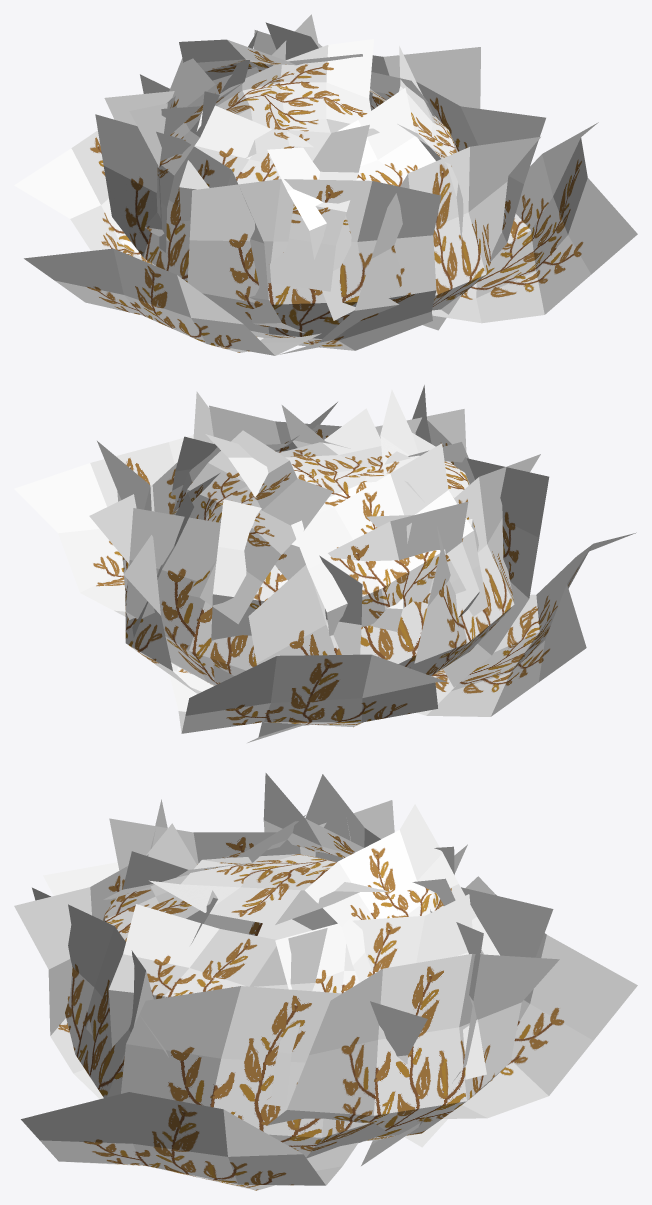
Rendered from Bush_Tall_test3_doubledfaces.fbx.
3 views of the same model, one above another, from view 1: azimuth 30°, elevation 25°; view 2: azimuth 150°, elevation 25°; view 3: azimuth 270°, elevation 25° (orthographic). The views are drawn at different scales.
Parts seen in each view (by area): view 1: Plane.006, Plane.016, Plane.005, Plane.010, Plane, Plane.015, Plane.014, Plane.007, Plane.017, Plane.004, Plane.003, Plane.011 (+6 smaller); view 2: Plane.017, Plane.011, Plane.001, Plane.002, Plane.013, Plane.015, Plane.016, Plane, Plane.006, Plane.014, Plane.012, Plane.003 (+6 smaller); view 3: Plane.003, Plane.004, Plane.016, Plane.008, Plane.017, Plane.013, Plane.005, Plane.009, Plane.014, Plane.001, Plane.006, Plane (+5 smaller).
Part boxes in pixels (<box>): Plane.006: <box>187,179,441,350</box>; Plane.016: <box>432,122,637,323</box>; Plane.005: <box>278,136,540,354</box>; Plane.010: <box>179,105,369,291</box>; Plane: <box>95,114,319,341</box>; Plane.015: <box>24,248,321,355</box>; Plane.014: <box>215,39,379,158</box>; Plane.007: <box>267,87,435,320</box>; Plane.017: <box>14,130,150,263</box>; Plane.004: <box>416,82,545,330</box>; Plane.003: <box>254,30,480,108</box>; Plane.011: <box>156,58,219,252</box>; Plane.017: <box>169,654,446,733</box>; Plane.011: <box>291,443,487,635</box>; Plane.001: <box>247,501,479,742</box>; Plane.002: <box>125,508,362,725</box>; Plane.013: <box>185,430,333,624</box>; Plane.015: <box>416,532,636,716</box>; Plane.016: <box>14,435,193,616</box>; Plane: <box>410,454,540,675</box>; Plane.006: <box>412,385,549,687</box>; Plane.014: <box>205,408,412,546</box>; Plane.012: <box>211,499,413,682</box>; Plane.003: <box>97,441,201,693</box>; Plane.003: <box>267,953,559,1141</box>; Plane.004: <box>121,986,427,1158</box>; Plane.016: <box>21,1092,358,1190</box>; Plane.008: <box>108,904,327,1106</box>; Plane.017: <box>442,876,637,1118</box>; Plane.013: <box>305,804,499,982</box>; Plane.005: <box>32,887,168,1097</box>; Plane.009: <box>275,894,486,1121</box>; Plane.014: <box>149,854,388,925</box>; Plane.001: <box>257,774,553,1147</box>; Plane.006: <box>14,799,167,1098</box>; Plane: <box>109,800,394,935</box>.
Size of the model in its own units: 726 by 331 by 608.
